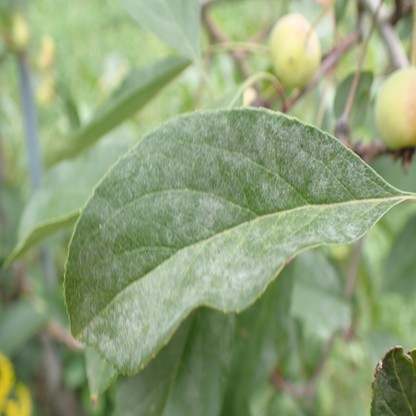powder: (64, 107, 400, 377), (115, 313, 234, 416)
rust: (90, 392, 97, 410)
